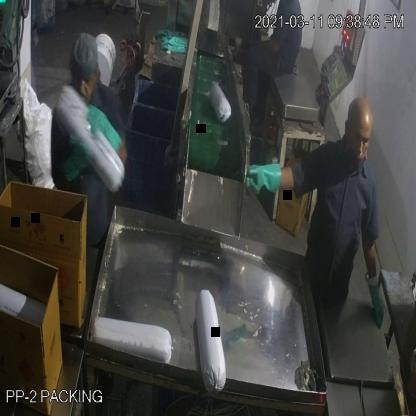glove: (242, 152, 286, 204), (364, 268, 391, 342)
